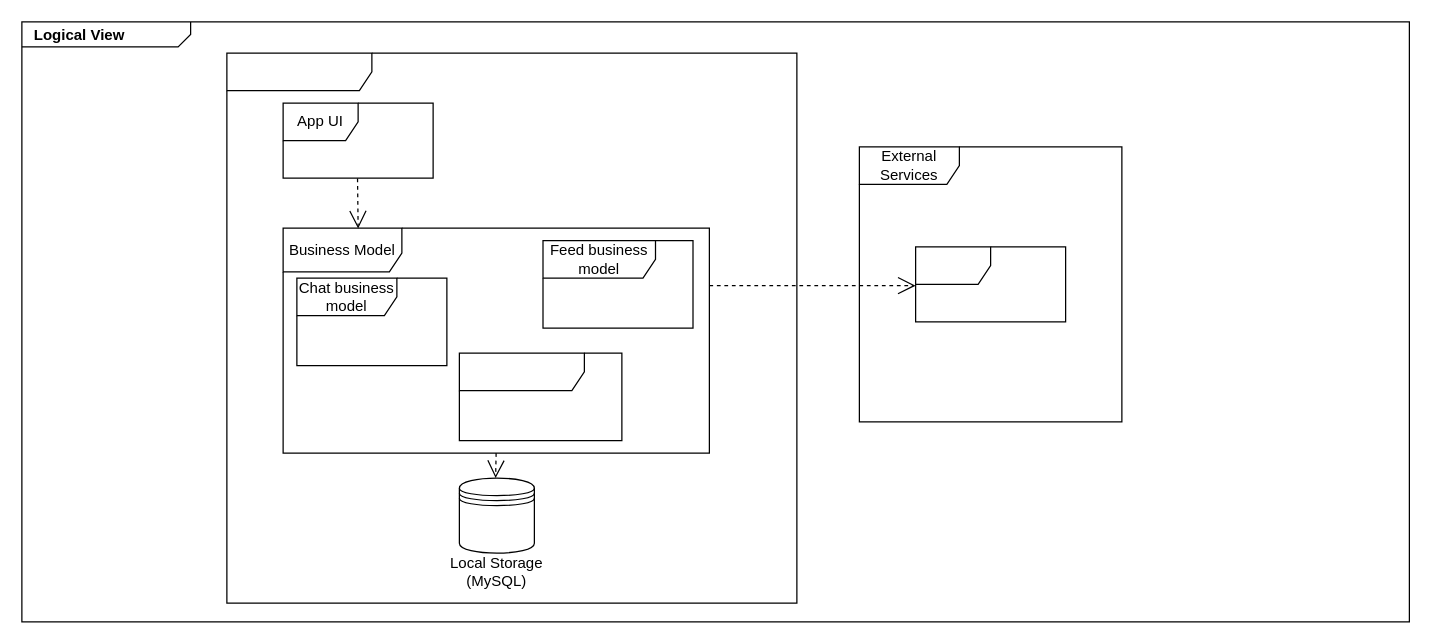
The diagram is 1431 pixels wide and 644 high, and some of its shapes have lost their labels. The shapes that lost their labels are listed below. From the top down, each one's box as (x1, y1, x2, y2) in pixels, then its label:
(914, 246, 1066, 322): Firebase
(226, 52, 797, 603): BrainShare App
(458, 352, 622, 441): Authentication business model
